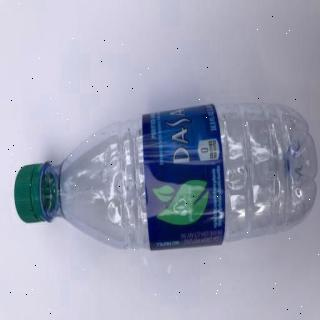Plastic-bottle: (11, 100, 320, 256)
